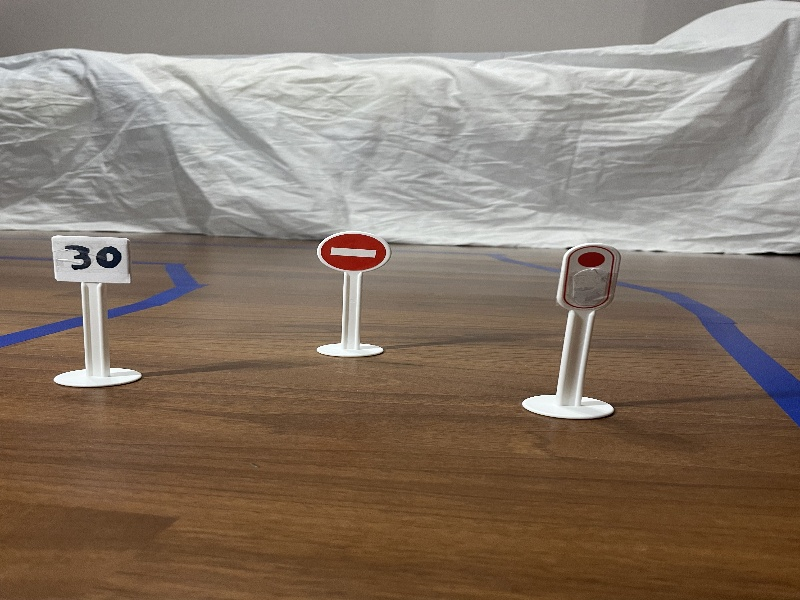interzis: (315, 226, 417, 280)
semafor_rosu: (556, 236, 620, 316)
viteza_limita_30: (45, 229, 141, 290)
